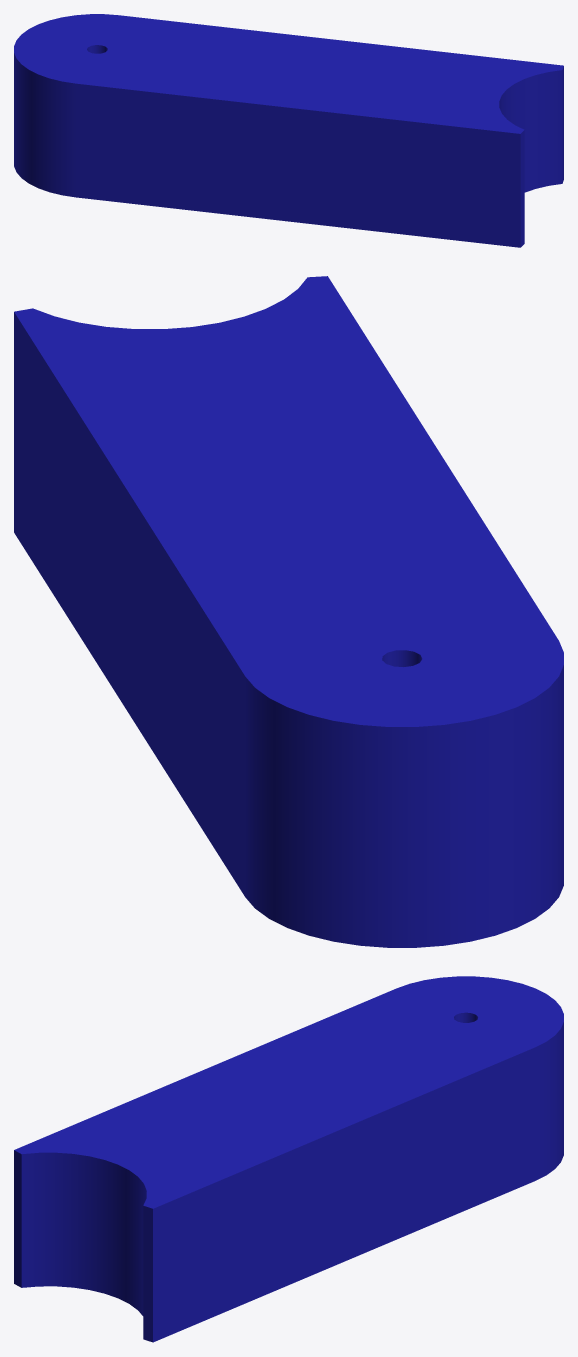
File: side_bumper.glb
3 renders of one model, top to bottom at view 1: azimuth 30°, elevation 25°; view 2: azimuth 150°, elevation 25°; view 3: azimuth 270°, elevation 25°, orthographic. The views are drawn at different scales.
Visible parts, largest first — view 1: Solide1; view 2: Solide1; view 3: Solide1.
Part boxes in pixels (x1,y1,x2,y2): Solide1: [14, 14, 563, 247]; Solide1: [14, 276, 563, 947]; Solide1: [14, 976, 563, 1342].
Size of the model in its own units: 0.1118 by 0.03 by 0.1118.
